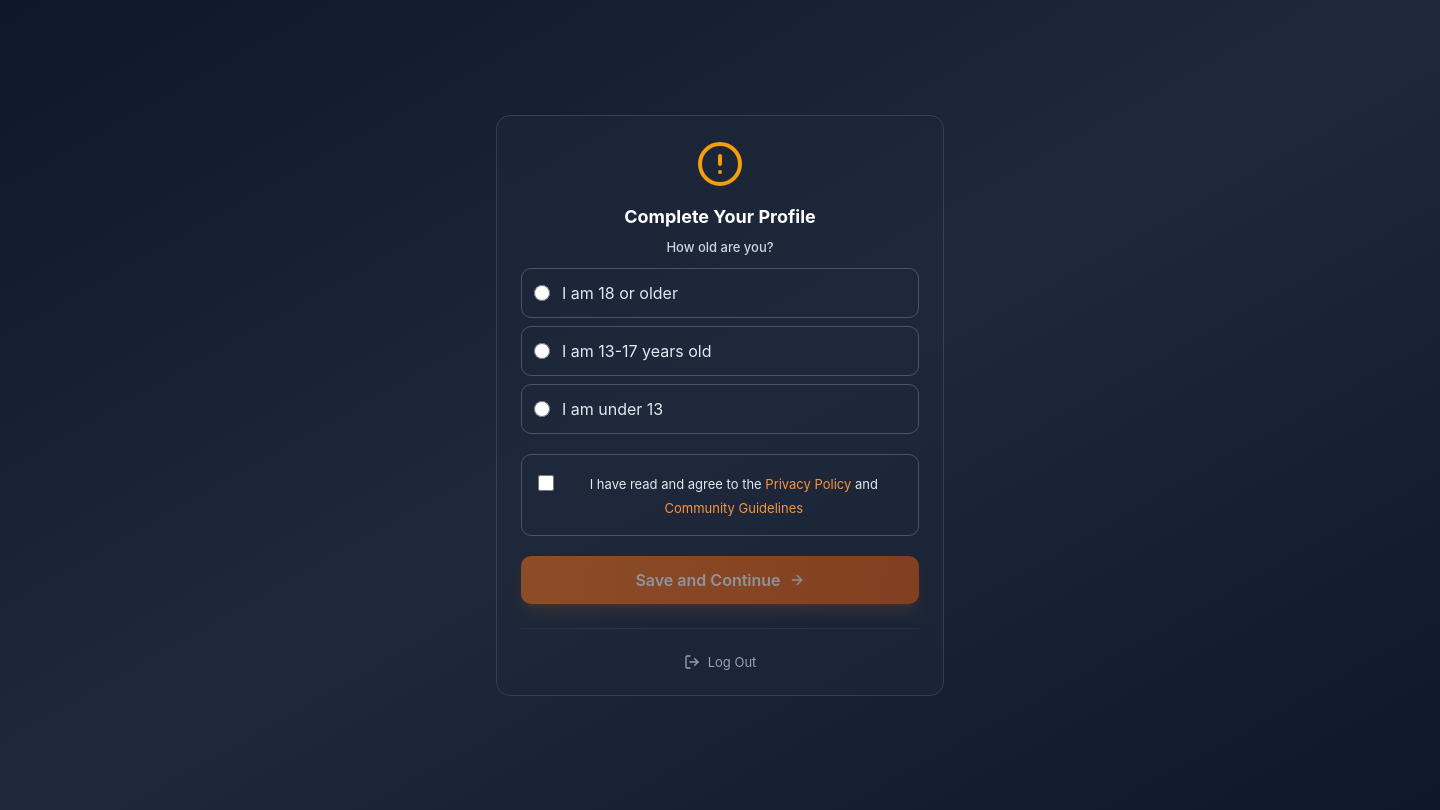
Scenario: JoinTeam — forced profile completion (B26) › surfaces the API error message when the update genuinely fails
Click the radio button labelled "I am 18 or older". click: (542, 292)
box: [534,284,550,300]
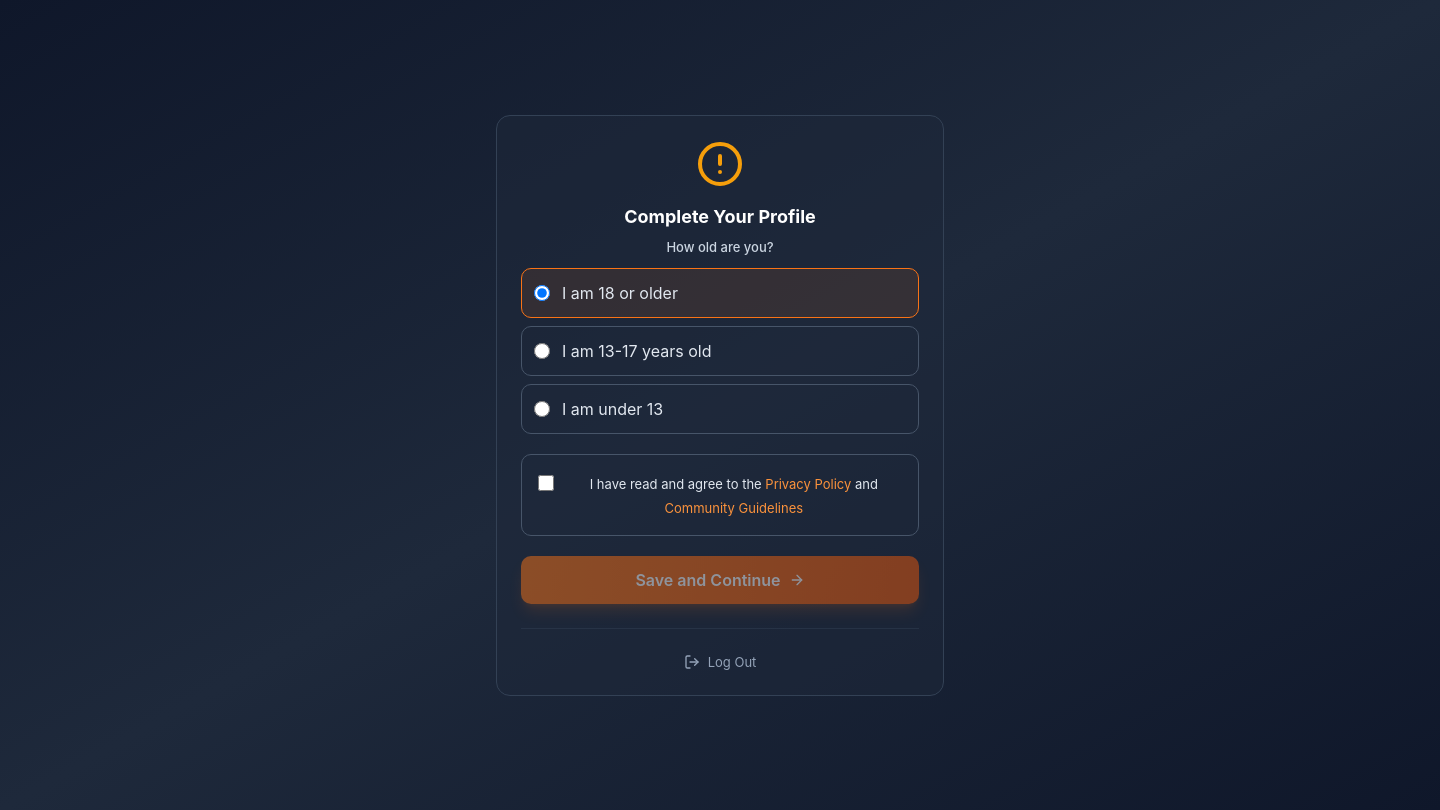
Click the checkbox. click: (546, 482)
box: [538,472,554,492]
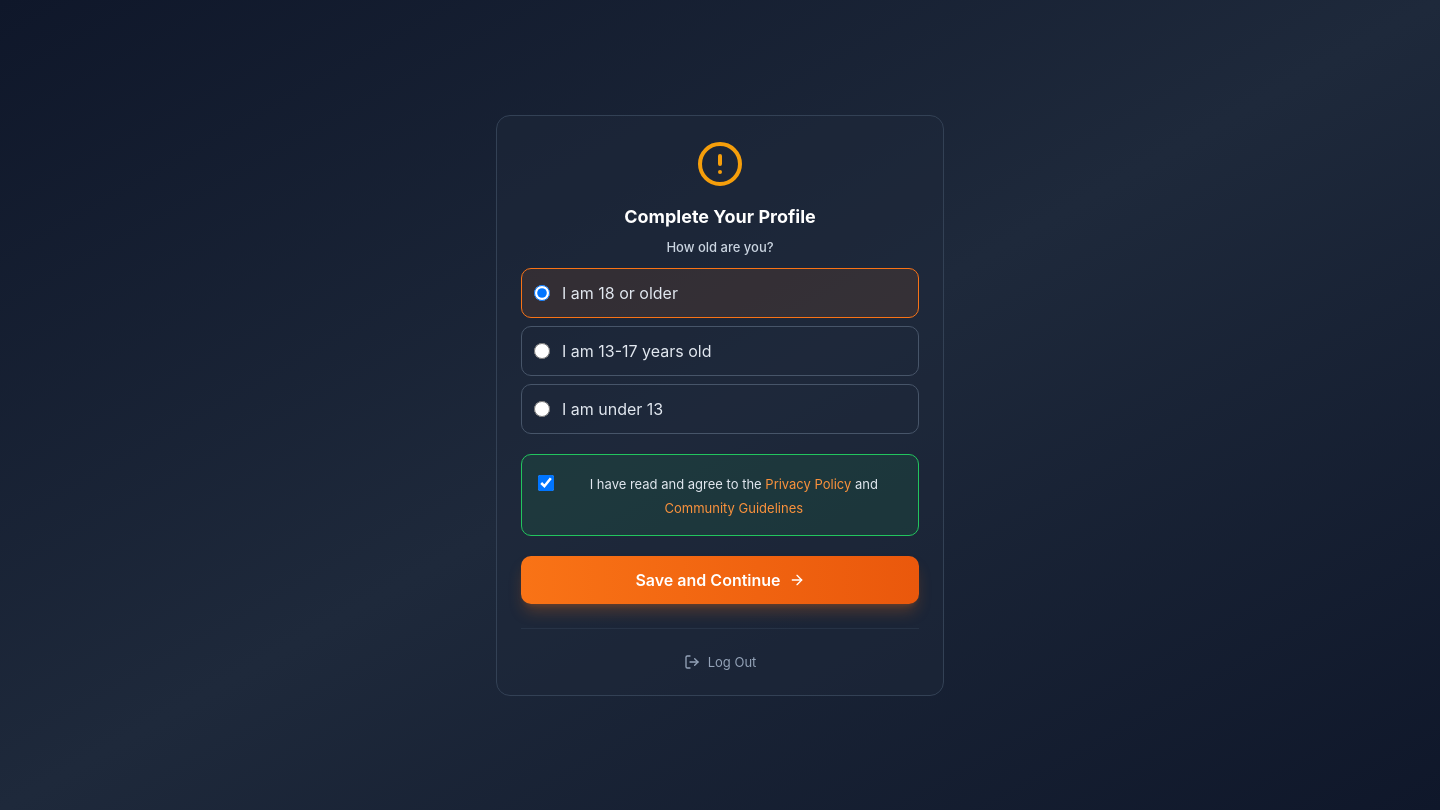
Click the button "Save and Continue". click: (720, 580)
box: [521,556,919,604]
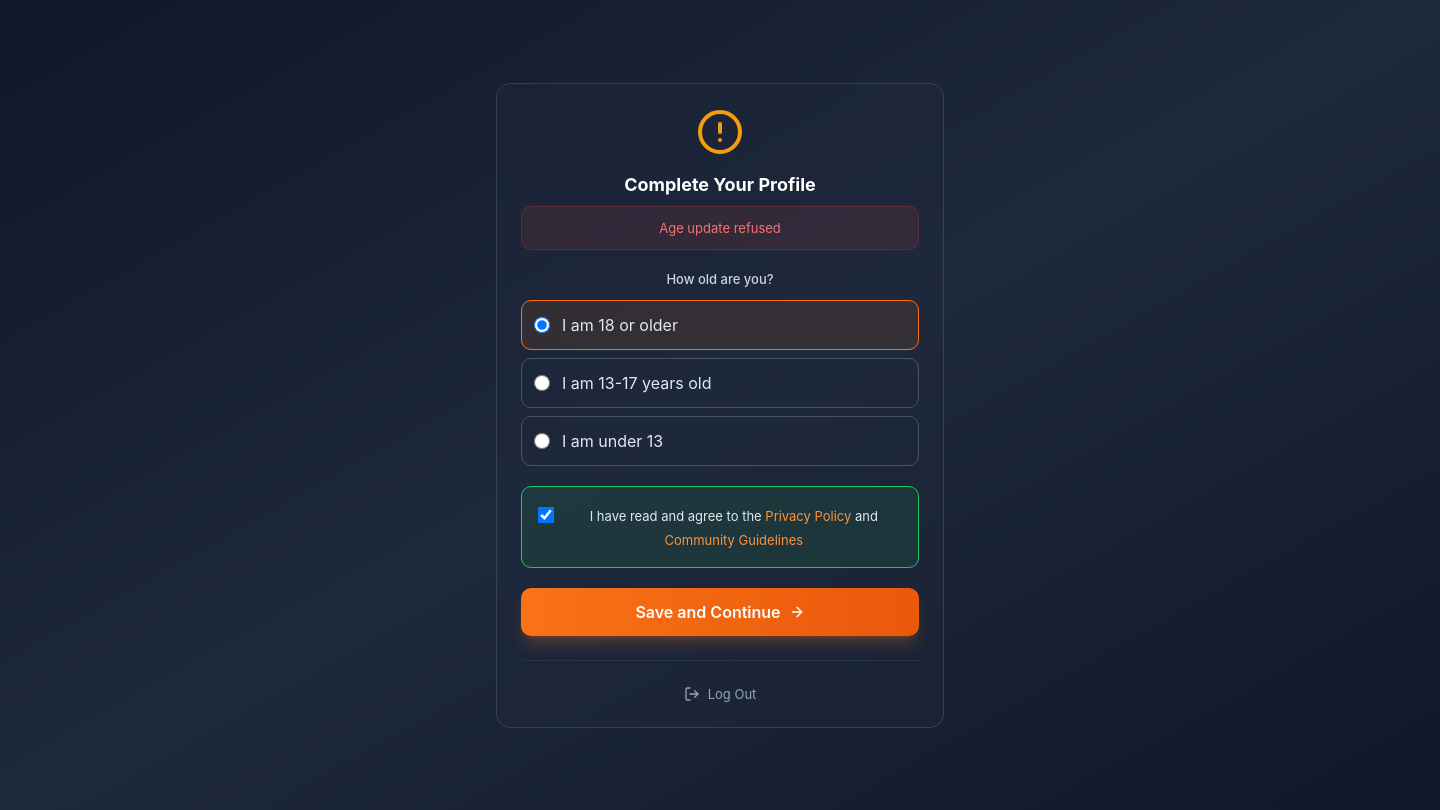
Expected: the text "Age update refused" is shown, [659,220,781,236]
